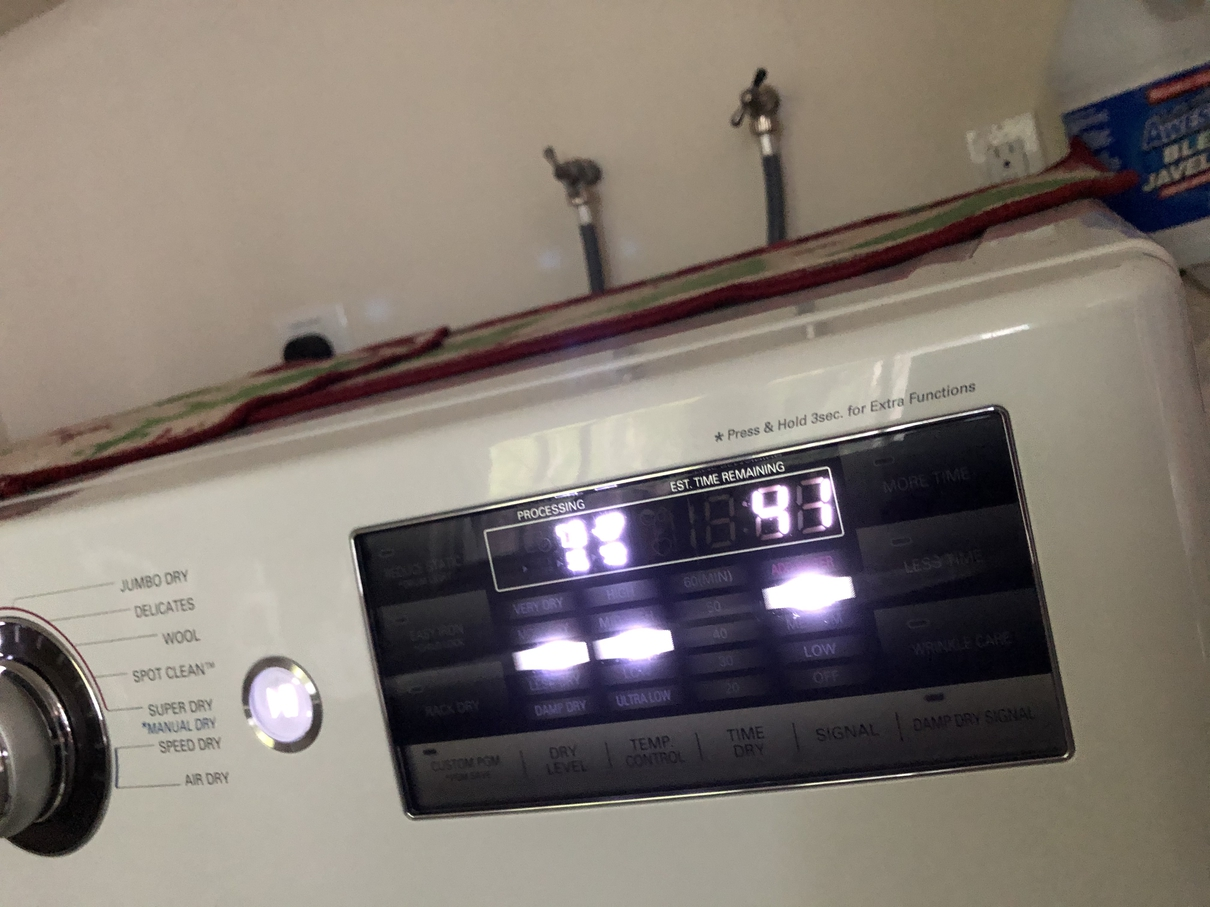status: (466, 458, 855, 598)
